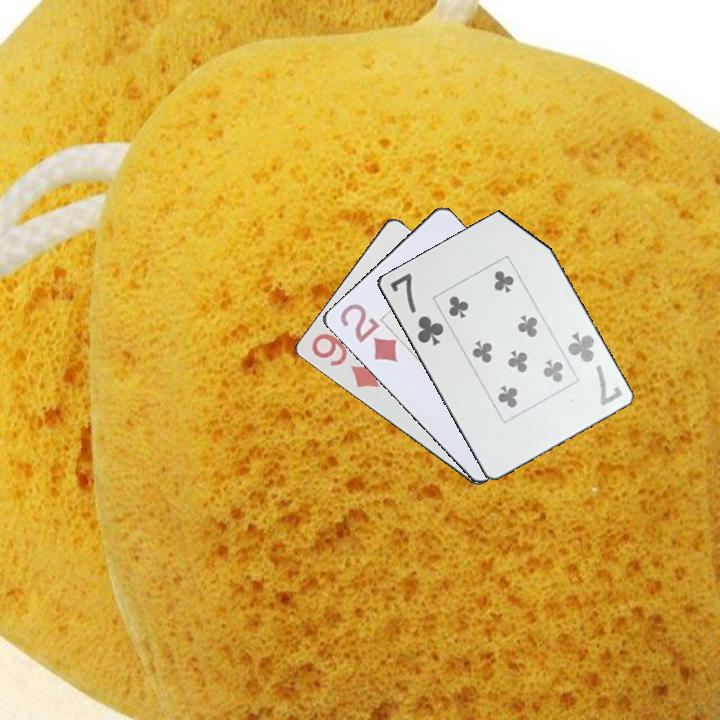2d: (336, 299, 400, 368)
7c: (563, 328, 625, 409), (386, 269, 447, 349)
9d: (307, 328, 383, 392)
